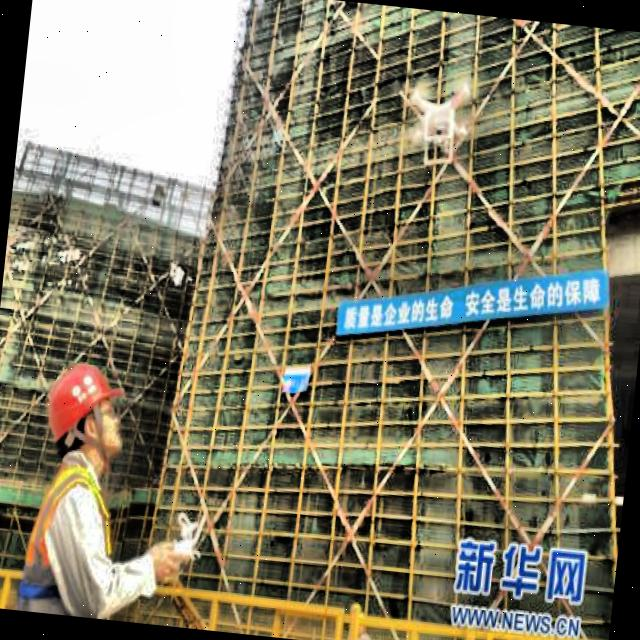helmet: (34, 354, 136, 477)
